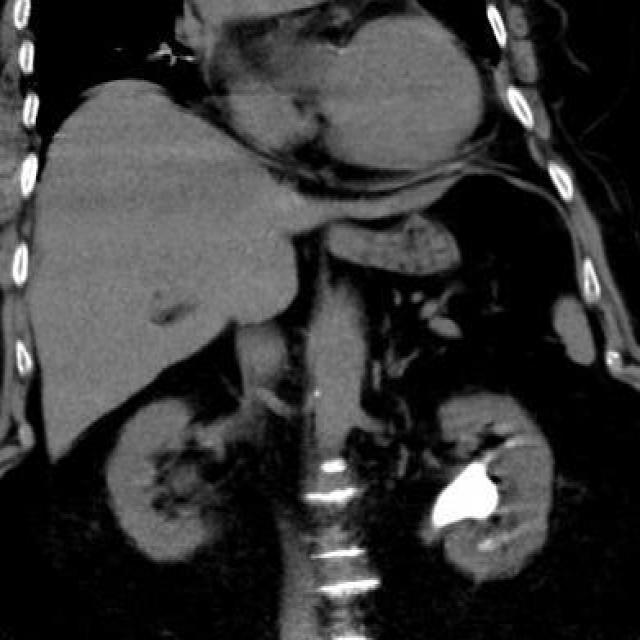Tas_Var: (429, 452, 496, 540), (475, 536, 499, 554), (505, 433, 518, 453)
